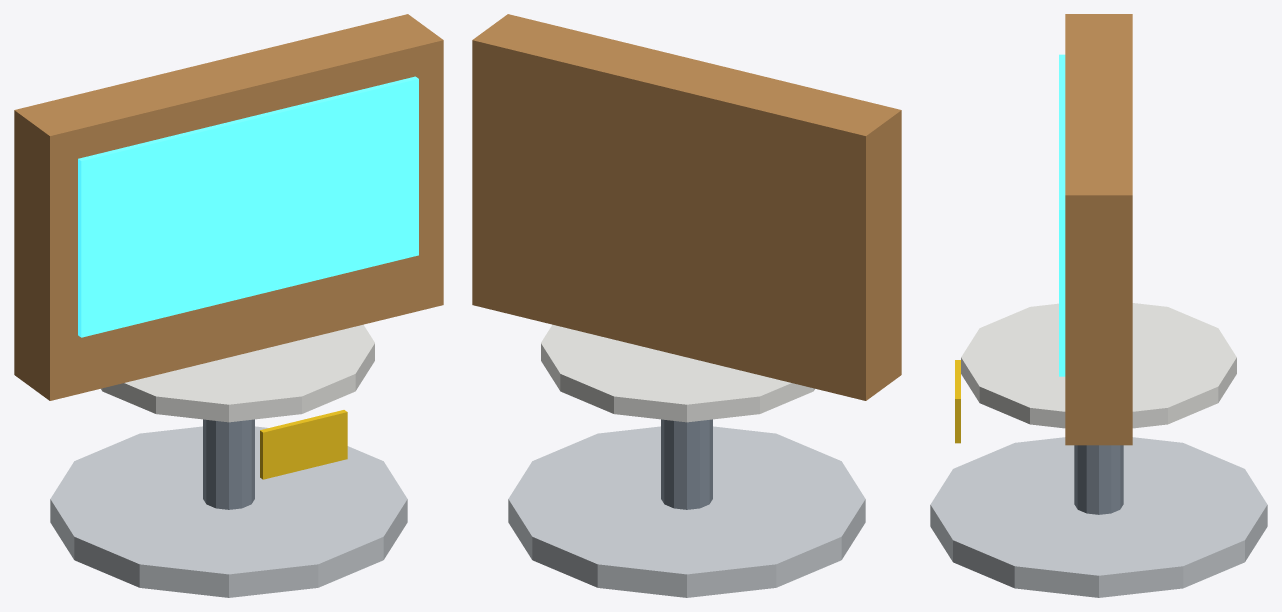
File: item-big_tv.glb
3 renders of one model, left to right at view 1: azimuth 30°, elevation 25°; view 2: azimuth 150°, elevation 25°; view 3: azimuth 270°, elevation 25°, orthographic. The views are drawn at different scales.
Visible parts, largest first — view 1: item-big_tv; view 2: item-big_tv; view 3: item-big_tv.
Part boxes in pixels (x1,y1,x2,y2): item-big_tv: (14, 14, 443, 597); item-big_tv: (472, 14, 901, 597); item-big_tv: (930, 14, 1267, 597).
Size of the model in its own units: 1.4 by 1.52 by 1.1.
